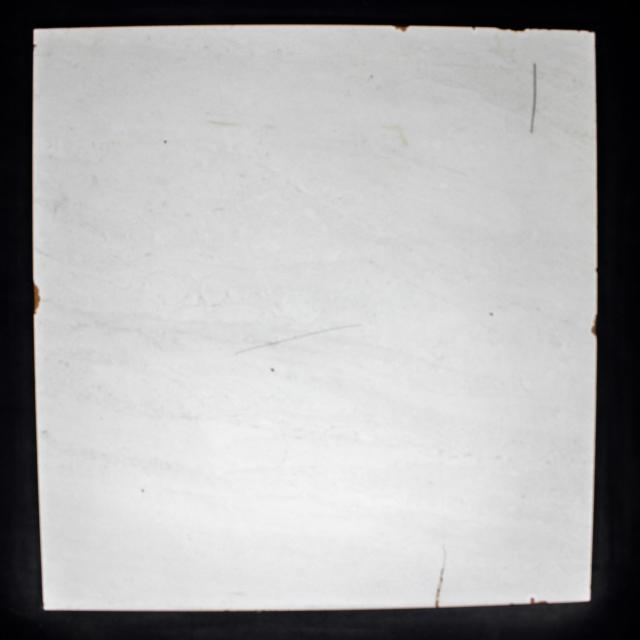edge-chipping: (32, 281, 42, 317), (590, 313, 598, 338), (496, 27, 526, 33), (529, 597, 550, 605), (393, 25, 409, 33)
line: (233, 338, 296, 354), (298, 322, 364, 337), (529, 62, 538, 135)
